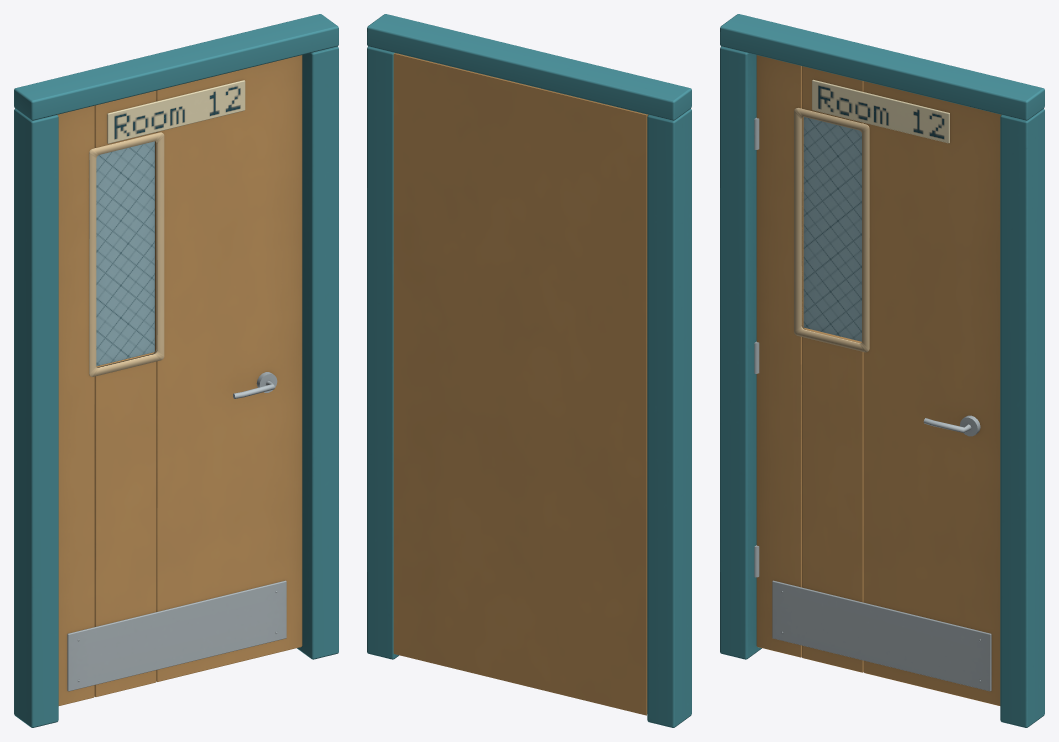
Rendered from classroom-door.fbx.
3 views of the same model, side by side, from view 1: azimuth 30°, elevation 25°; view 2: azimuth 150°, elevation 25°; view 3: azimuth 330°, elevation 25° (orthographic).
Parts seen in each view (by area): view 1: classroom-door; view 2: classroom-door; view 3: classroom-door.
Boxes of the visible parts, box(x1,y1,x2,y2) form: classroom-door: box(14, 14, 338, 727); classroom-door: box(367, 14, 691, 727); classroom-door: box(720, 14, 1044, 727).
Bounding box in the file's own units: 19000 × 37000 × 2000.
Materials: 1 (1 with a texture image).
